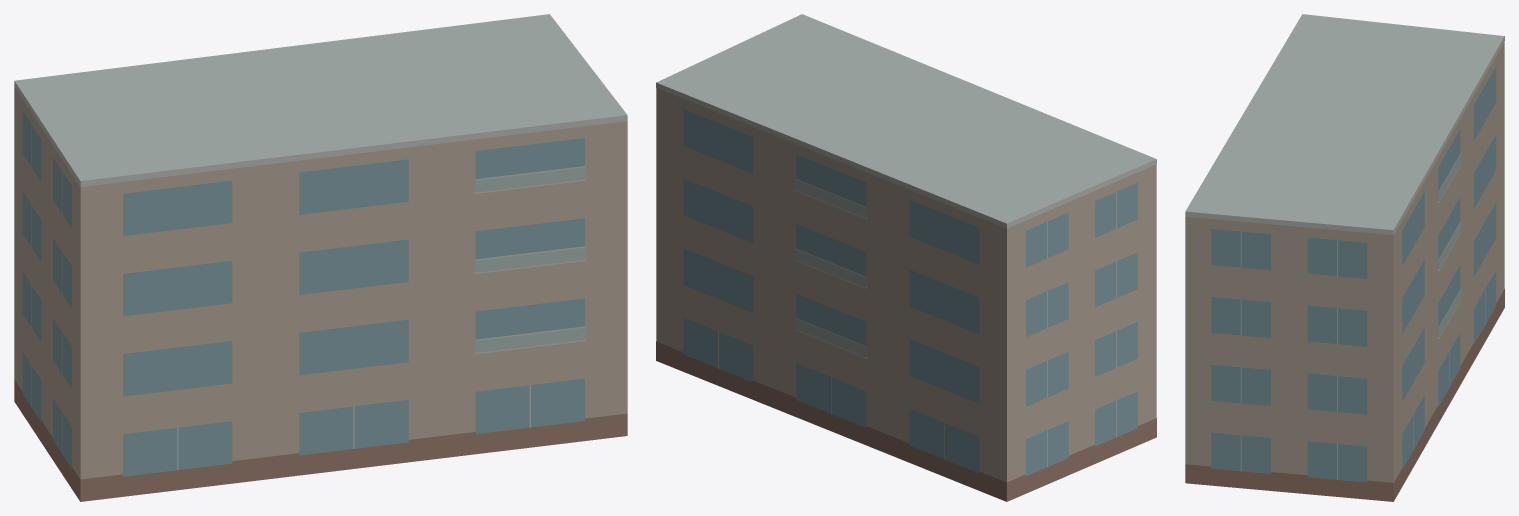
The model's file is survey-upis-32878446.glb.
3 renders of one model, left to right at view 1: azimuth 30°, elevation 25°; view 2: azimuth 150°, elevation 25°; view 3: azimuth 270°, elevation 25°, orthographic. The views are drawn at different scales.
Parts seen in each view (by area): view 1: survey-upis-32878446.tmp; view 2: survey-upis-32878446.tmp; view 3: survey-upis-32878446.tmp.
Part boxes in pixels (<box>): survey-upis-32878446.tmp: <box>14,14,627,501</box>; survey-upis-32878446.tmp: <box>656,14,1156,501</box>; survey-upis-32878446.tmp: <box>1185,14,1504,501</box>.
Size of the model in its own units: 22.37 by 13.1 by 13.97.
